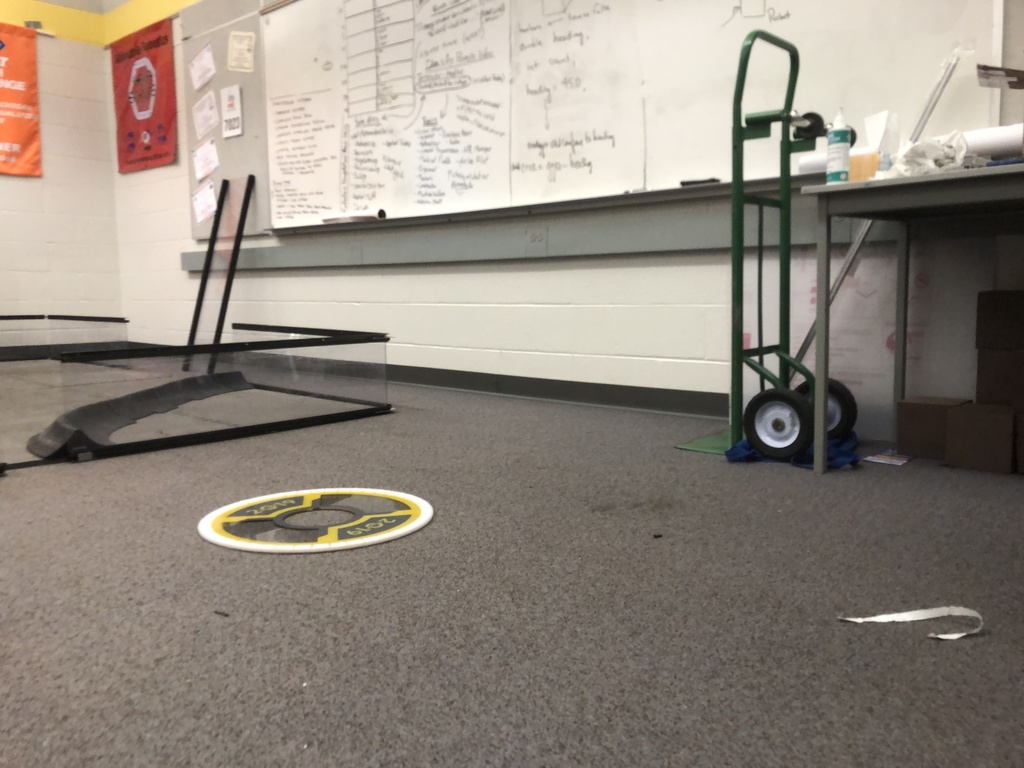hatch_panel: (189, 473, 436, 556)
